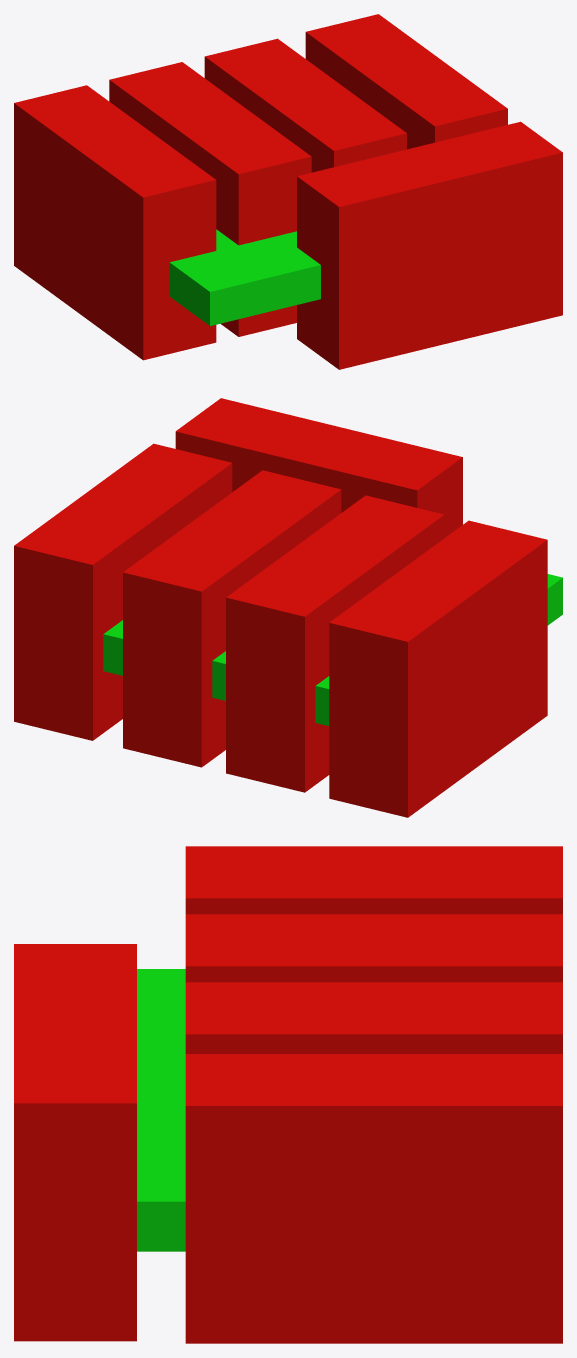
File: 力の実.fbx
3 renders of one model, top to bottom at view 1: azimuth 30°, elevation 25°; view 2: azimuth 150°, elevation 25°; view 3: azimuth 270°, elevation 25°, orthographic. The views are drawn at different scales.
Parts seen in each view (by area): view 1: 立方体.005; view 2: 立方体.005; view 3: 立方体.005.
Part boxes in pixels (x1,y1,x2,y2): 立方体.005: (14, 14, 562, 369); 立方体.005: (14, 398, 562, 817); 立方体.005: (14, 846, 562, 1343).
Size of the model in its own units: 182 by 77.66 by 163.
